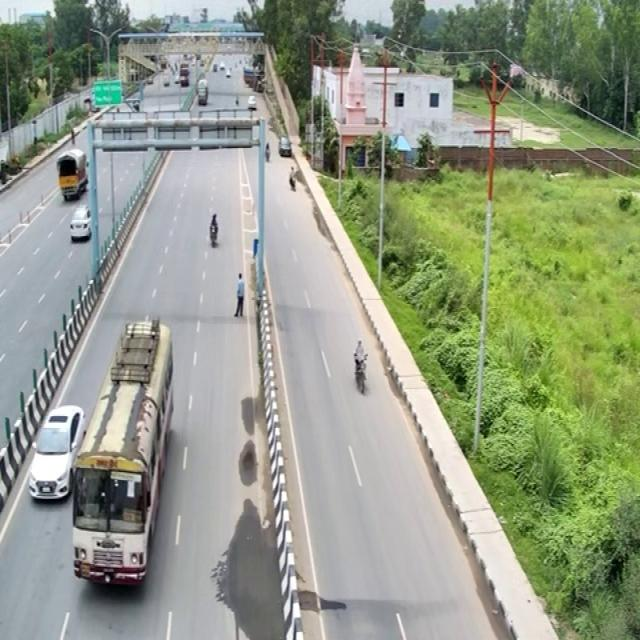car: (33, 299, 112, 376), (88, 151, 127, 182)
